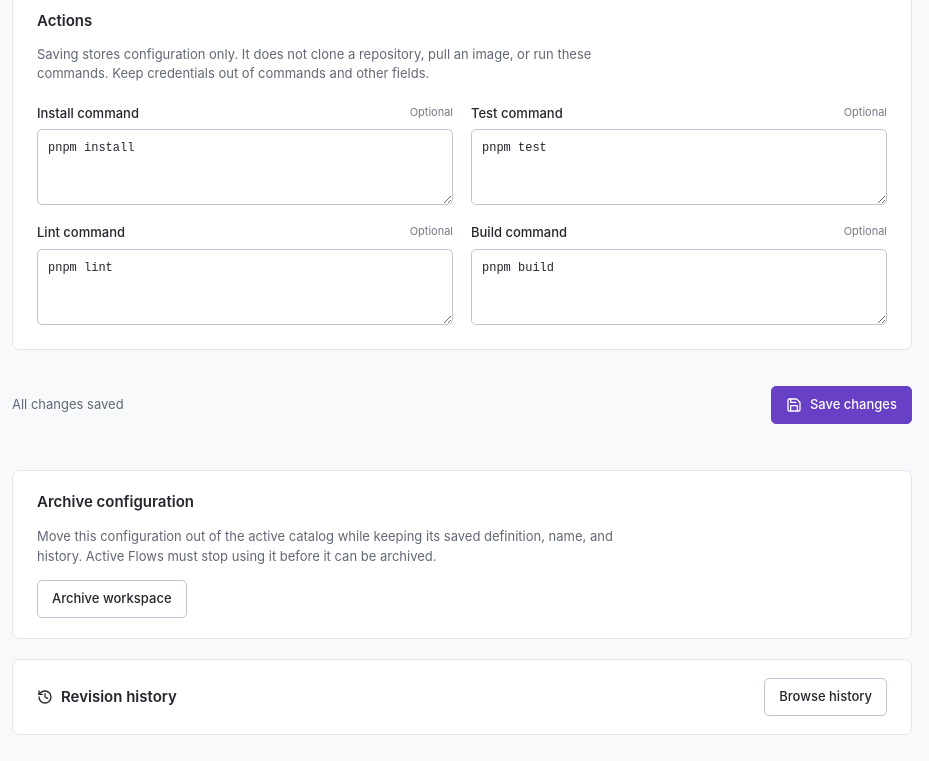
catalog revision history and restore recovery › appends older revisions using an exclusive numeric cursor
(page scrolled)
Click the button "Browse history" at (826, 697), box [764,678,887,716]
(page scrolled)
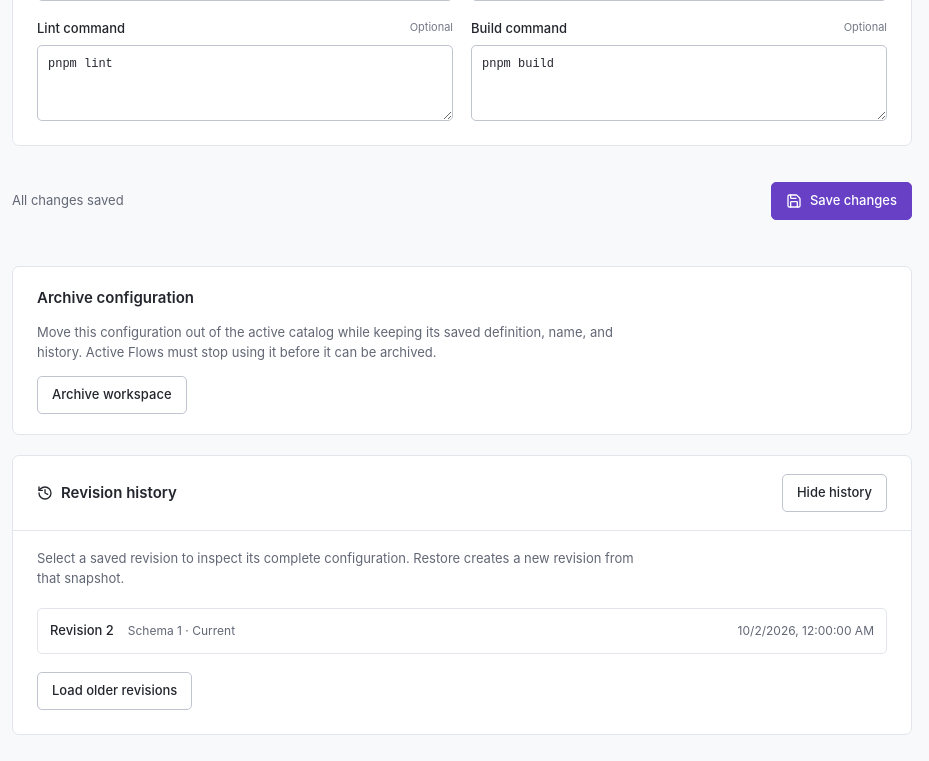
Result: the button "Load older revisions" is shown
Click the button "Load older revisions" at (115, 690), box [37,672,192,710]
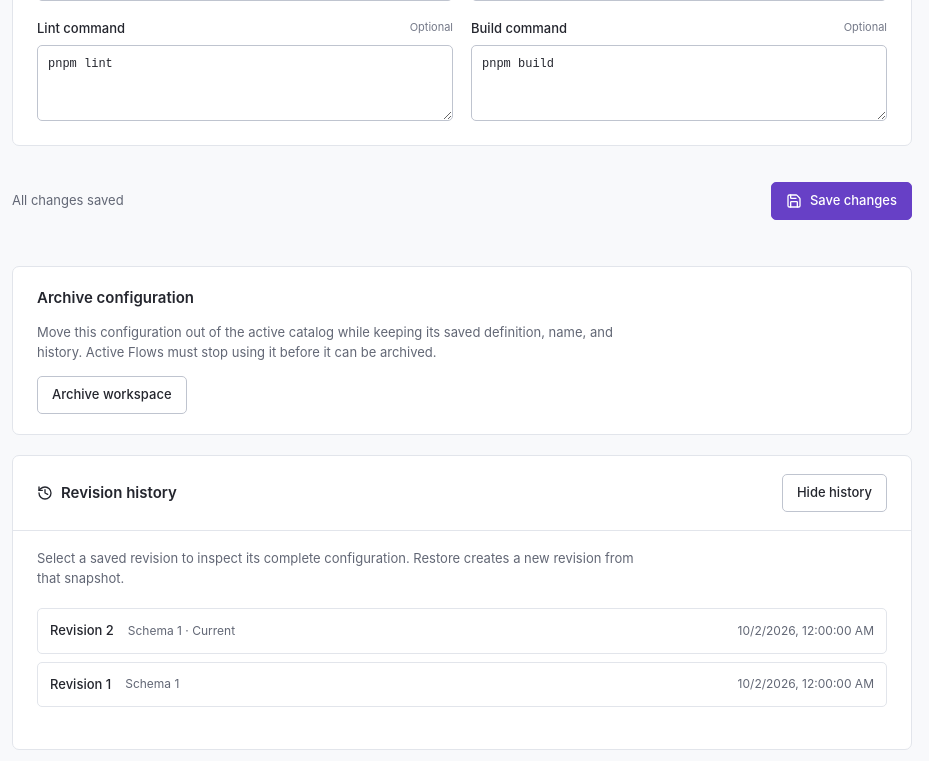
Result: the number of list items is 2 at [37,608,887,654]; [37,662,887,707]
Result: the text "Load older revisions" is gone
